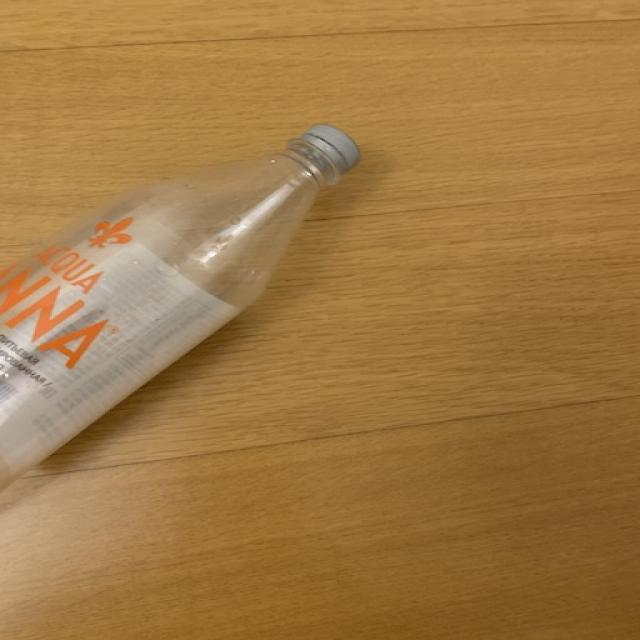plastic_bottle: (1, 124, 362, 494)
